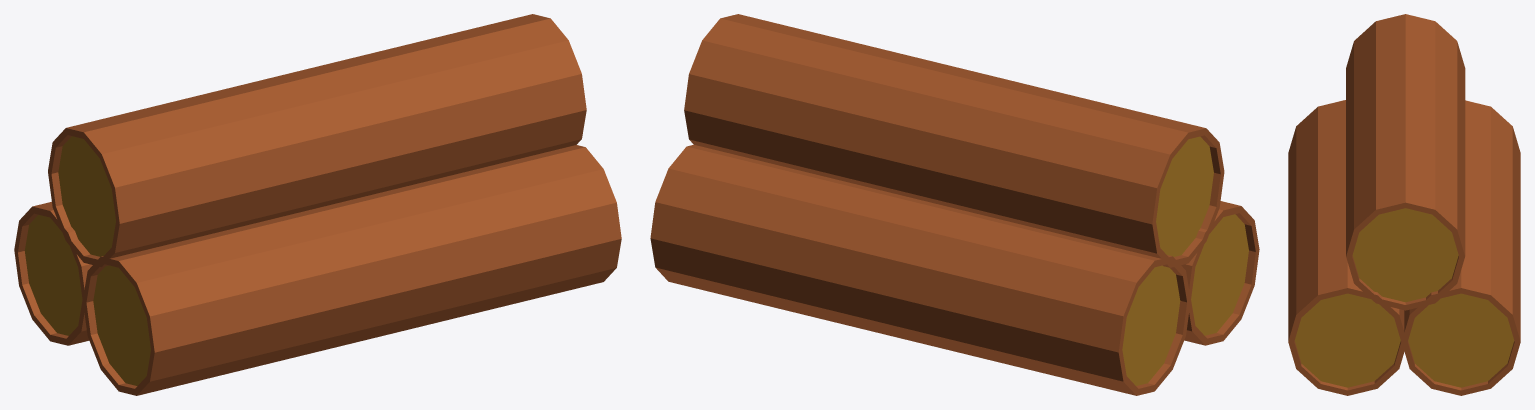
File: Log.fbx
3 renders of one model, left to right at view 1: azimuth 30°, elevation 25°; view 2: azimuth 150°, elevation 25°; view 3: azimuth 270°, elevation 25°, orthographic. The views are drawn at different scales.
Visible parts, largest first — view 1: Log_Geo; view 2: Log_Geo; view 3: Log_Geo.
Part boxes in pixels (bbox=[...]): Log_Geo: bbox=[14, 14, 621, 395]; Log_Geo: bbox=[650, 14, 1259, 395]; Log_Geo: bbox=[1288, 14, 1520, 395].
Size of the model in its own units: 61.93 by 29.6 by 32.27.
